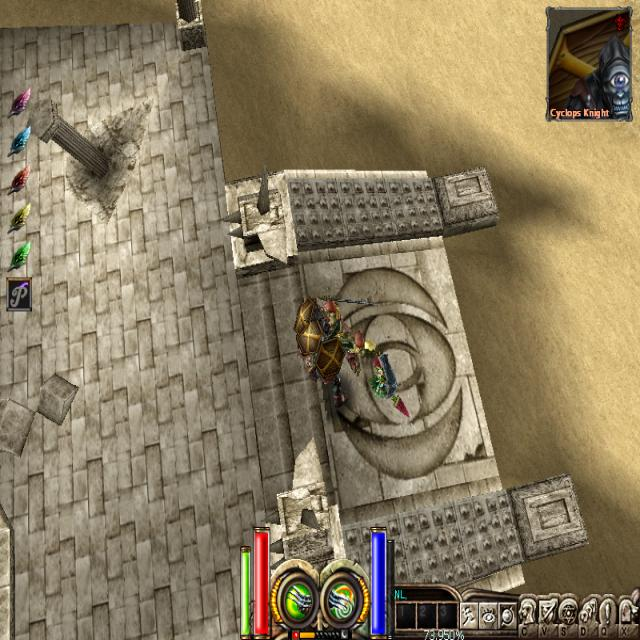monster: (316, 335, 351, 409), (369, 362, 408, 422), (338, 326, 364, 373), (300, 318, 326, 364), (321, 297, 342, 340), (360, 334, 380, 363)
